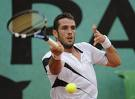tennis ball: (65, 81, 78, 94)
